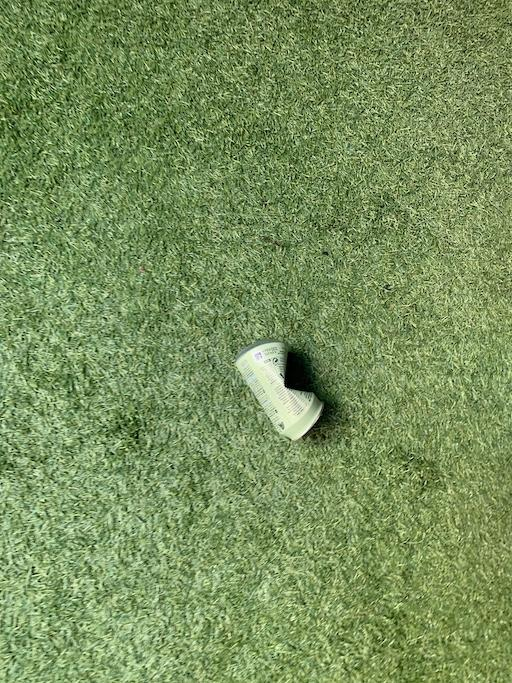Aluminum can: (224, 324, 342, 456)
